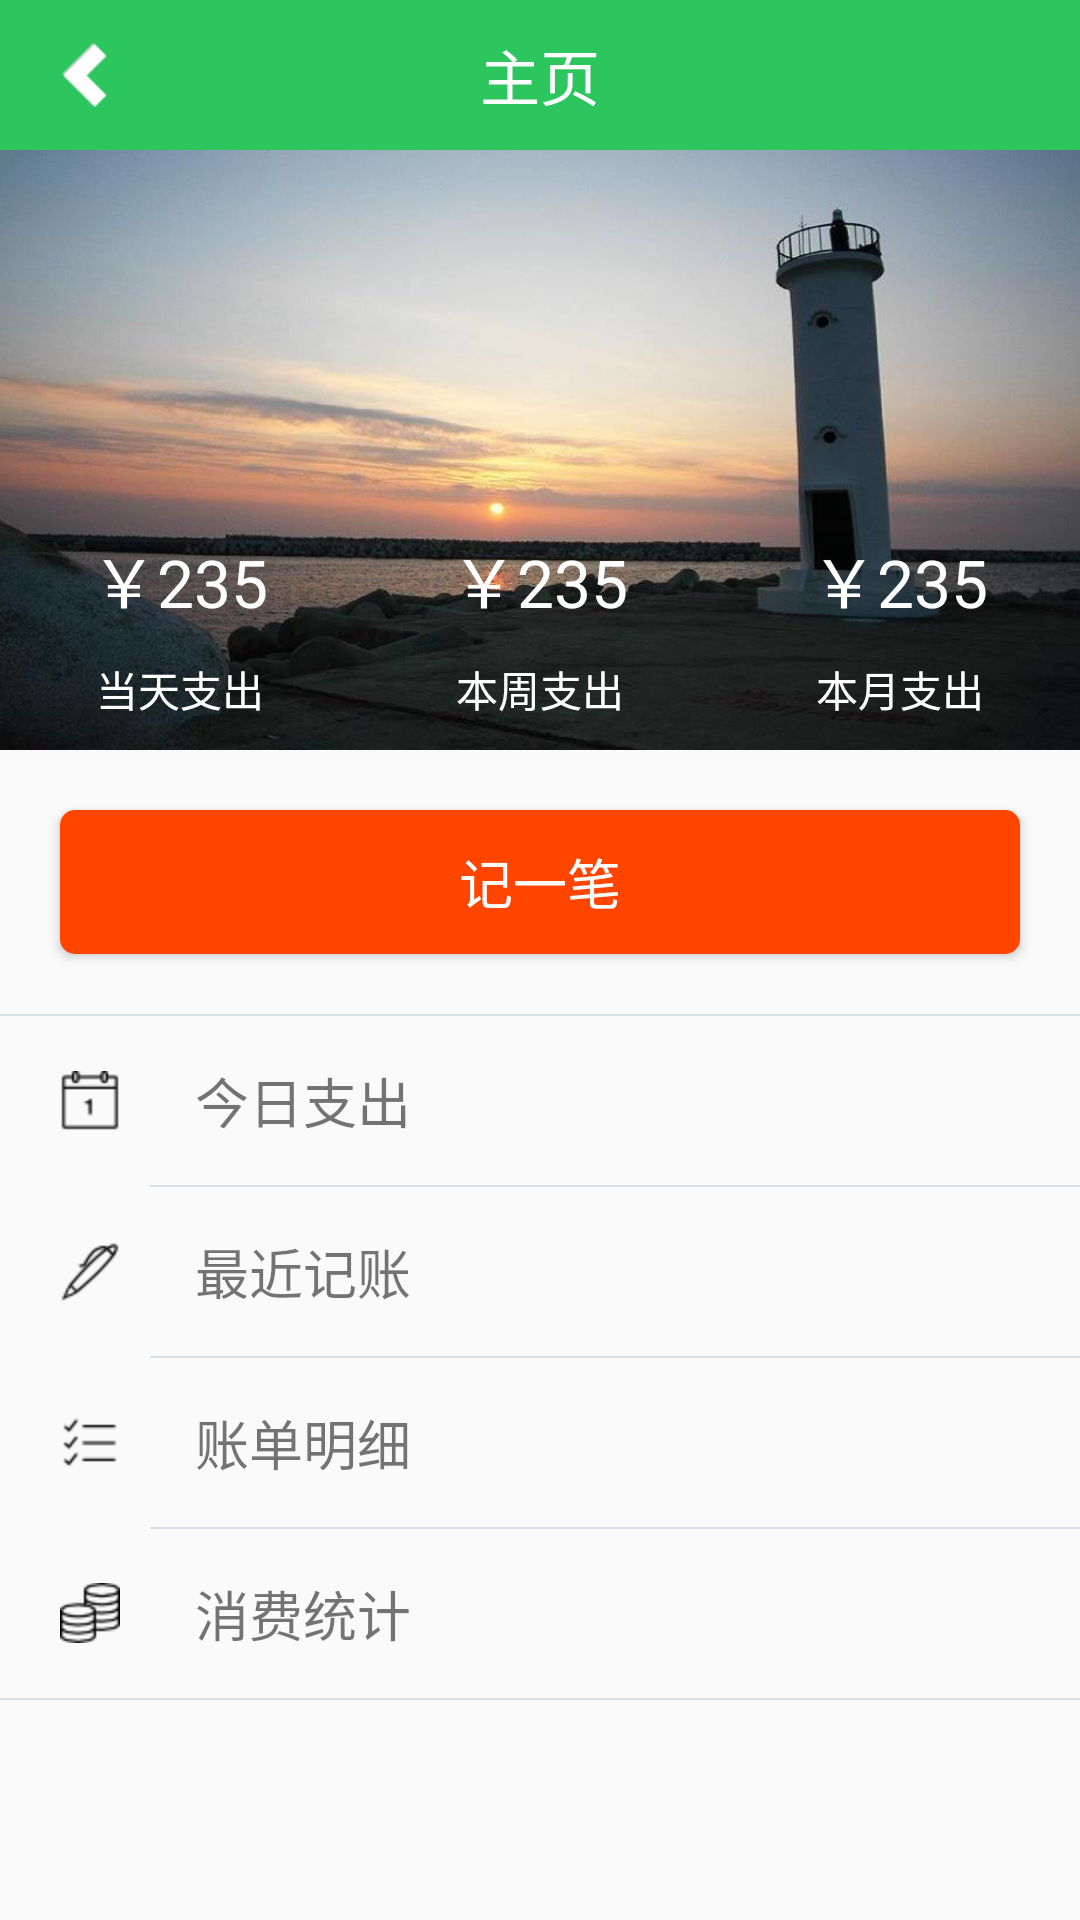

Icon bounding boxes for this 1080 x 1920 phone screenshot, format [left=x1, top=y1, right=x2, bottom=y2]:
calendar: [left=61, top=1071, right=119, bottom=1130]
data: [left=60, top=1583, right=120, bottom=1643]
list: [left=63, top=1419, right=117, bottom=1466]
pen: [left=61, top=1243, right=119, bottom=1301]
